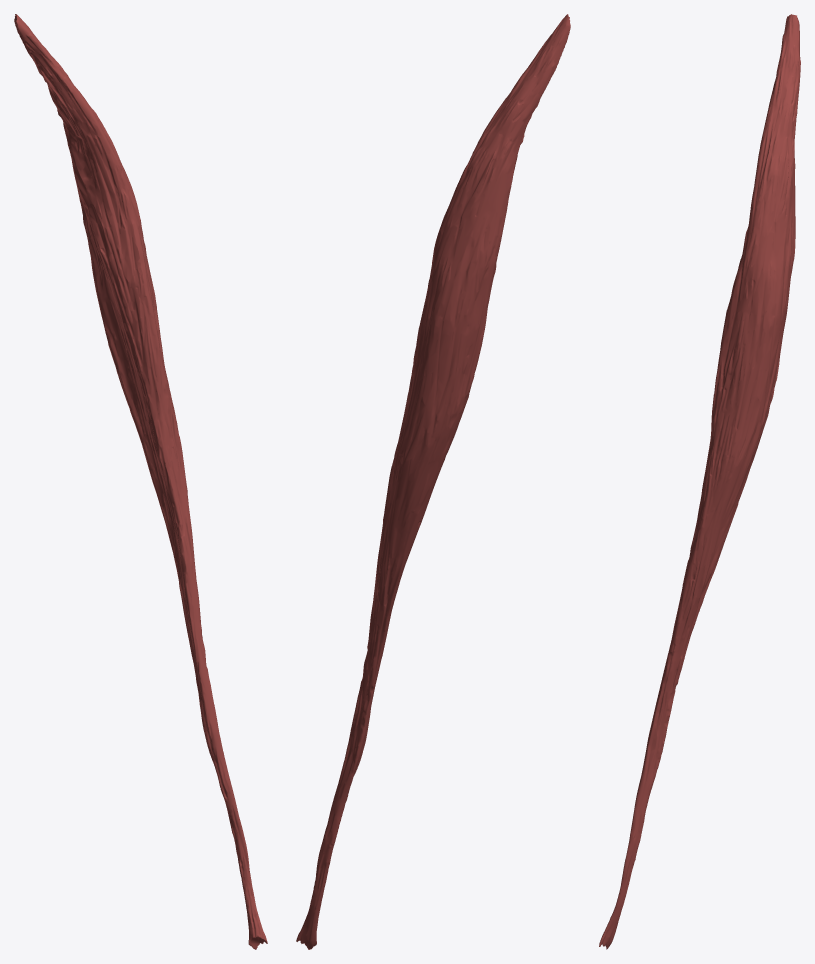
The model's file is FMA38496.glb.
3 views of the same model, side by side, from view 1: azimuth 30°, elevation 25°; view 2: azimuth 210°, elevation 25°; view 3: azimuth 270°, elevation 25° (orthographic). The views are drawn at different scales.
Parts seen in each view (by area): view 1: FMA38496; view 2: FMA38496; view 3: FMA38496.
Part boxes in pixels (<box>): FMA38496: <box>14,14,267,949</box>; FMA38496: <box>296,14,570,949</box>; FMA38496: <box>599,14,800,949</box>.
Bounding box in the file's own units: 0.0577 × 0.3224 × 0.0679.
